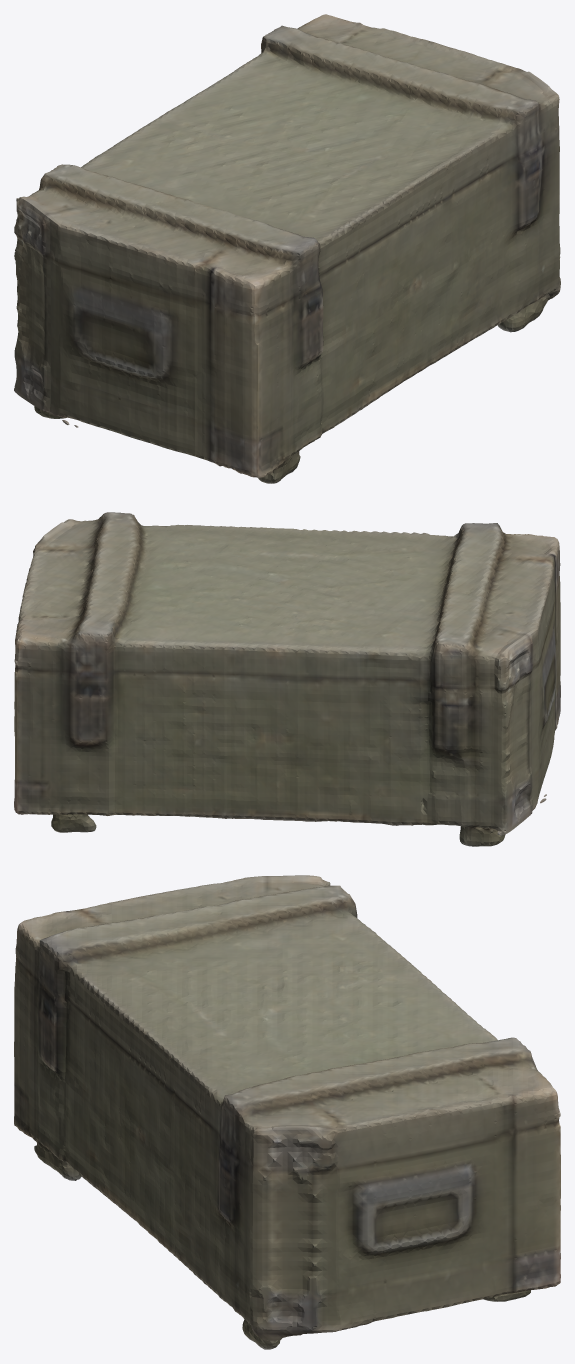
3 renders of one model, top to bottom at view 1: azimuth 30°, elevation 25°; view 2: azimuth 150°, elevation 25°; view 3: azimuth 270°, elevation 25°, orthographic. The views are drawn at different scales.
Parts seen in each view (by area): view 1: world; view 2: world; view 3: world.
Part boxes in pixels (left/top/right/bottom): world: left=14, top=14, right=560, bottom=483; world: left=14, top=512, right=560, bottom=846; world: left=14, top=875, right=560, bottom=1349.
Bounding box in the file's own units: 2 × 0.8686 × 1.79.
